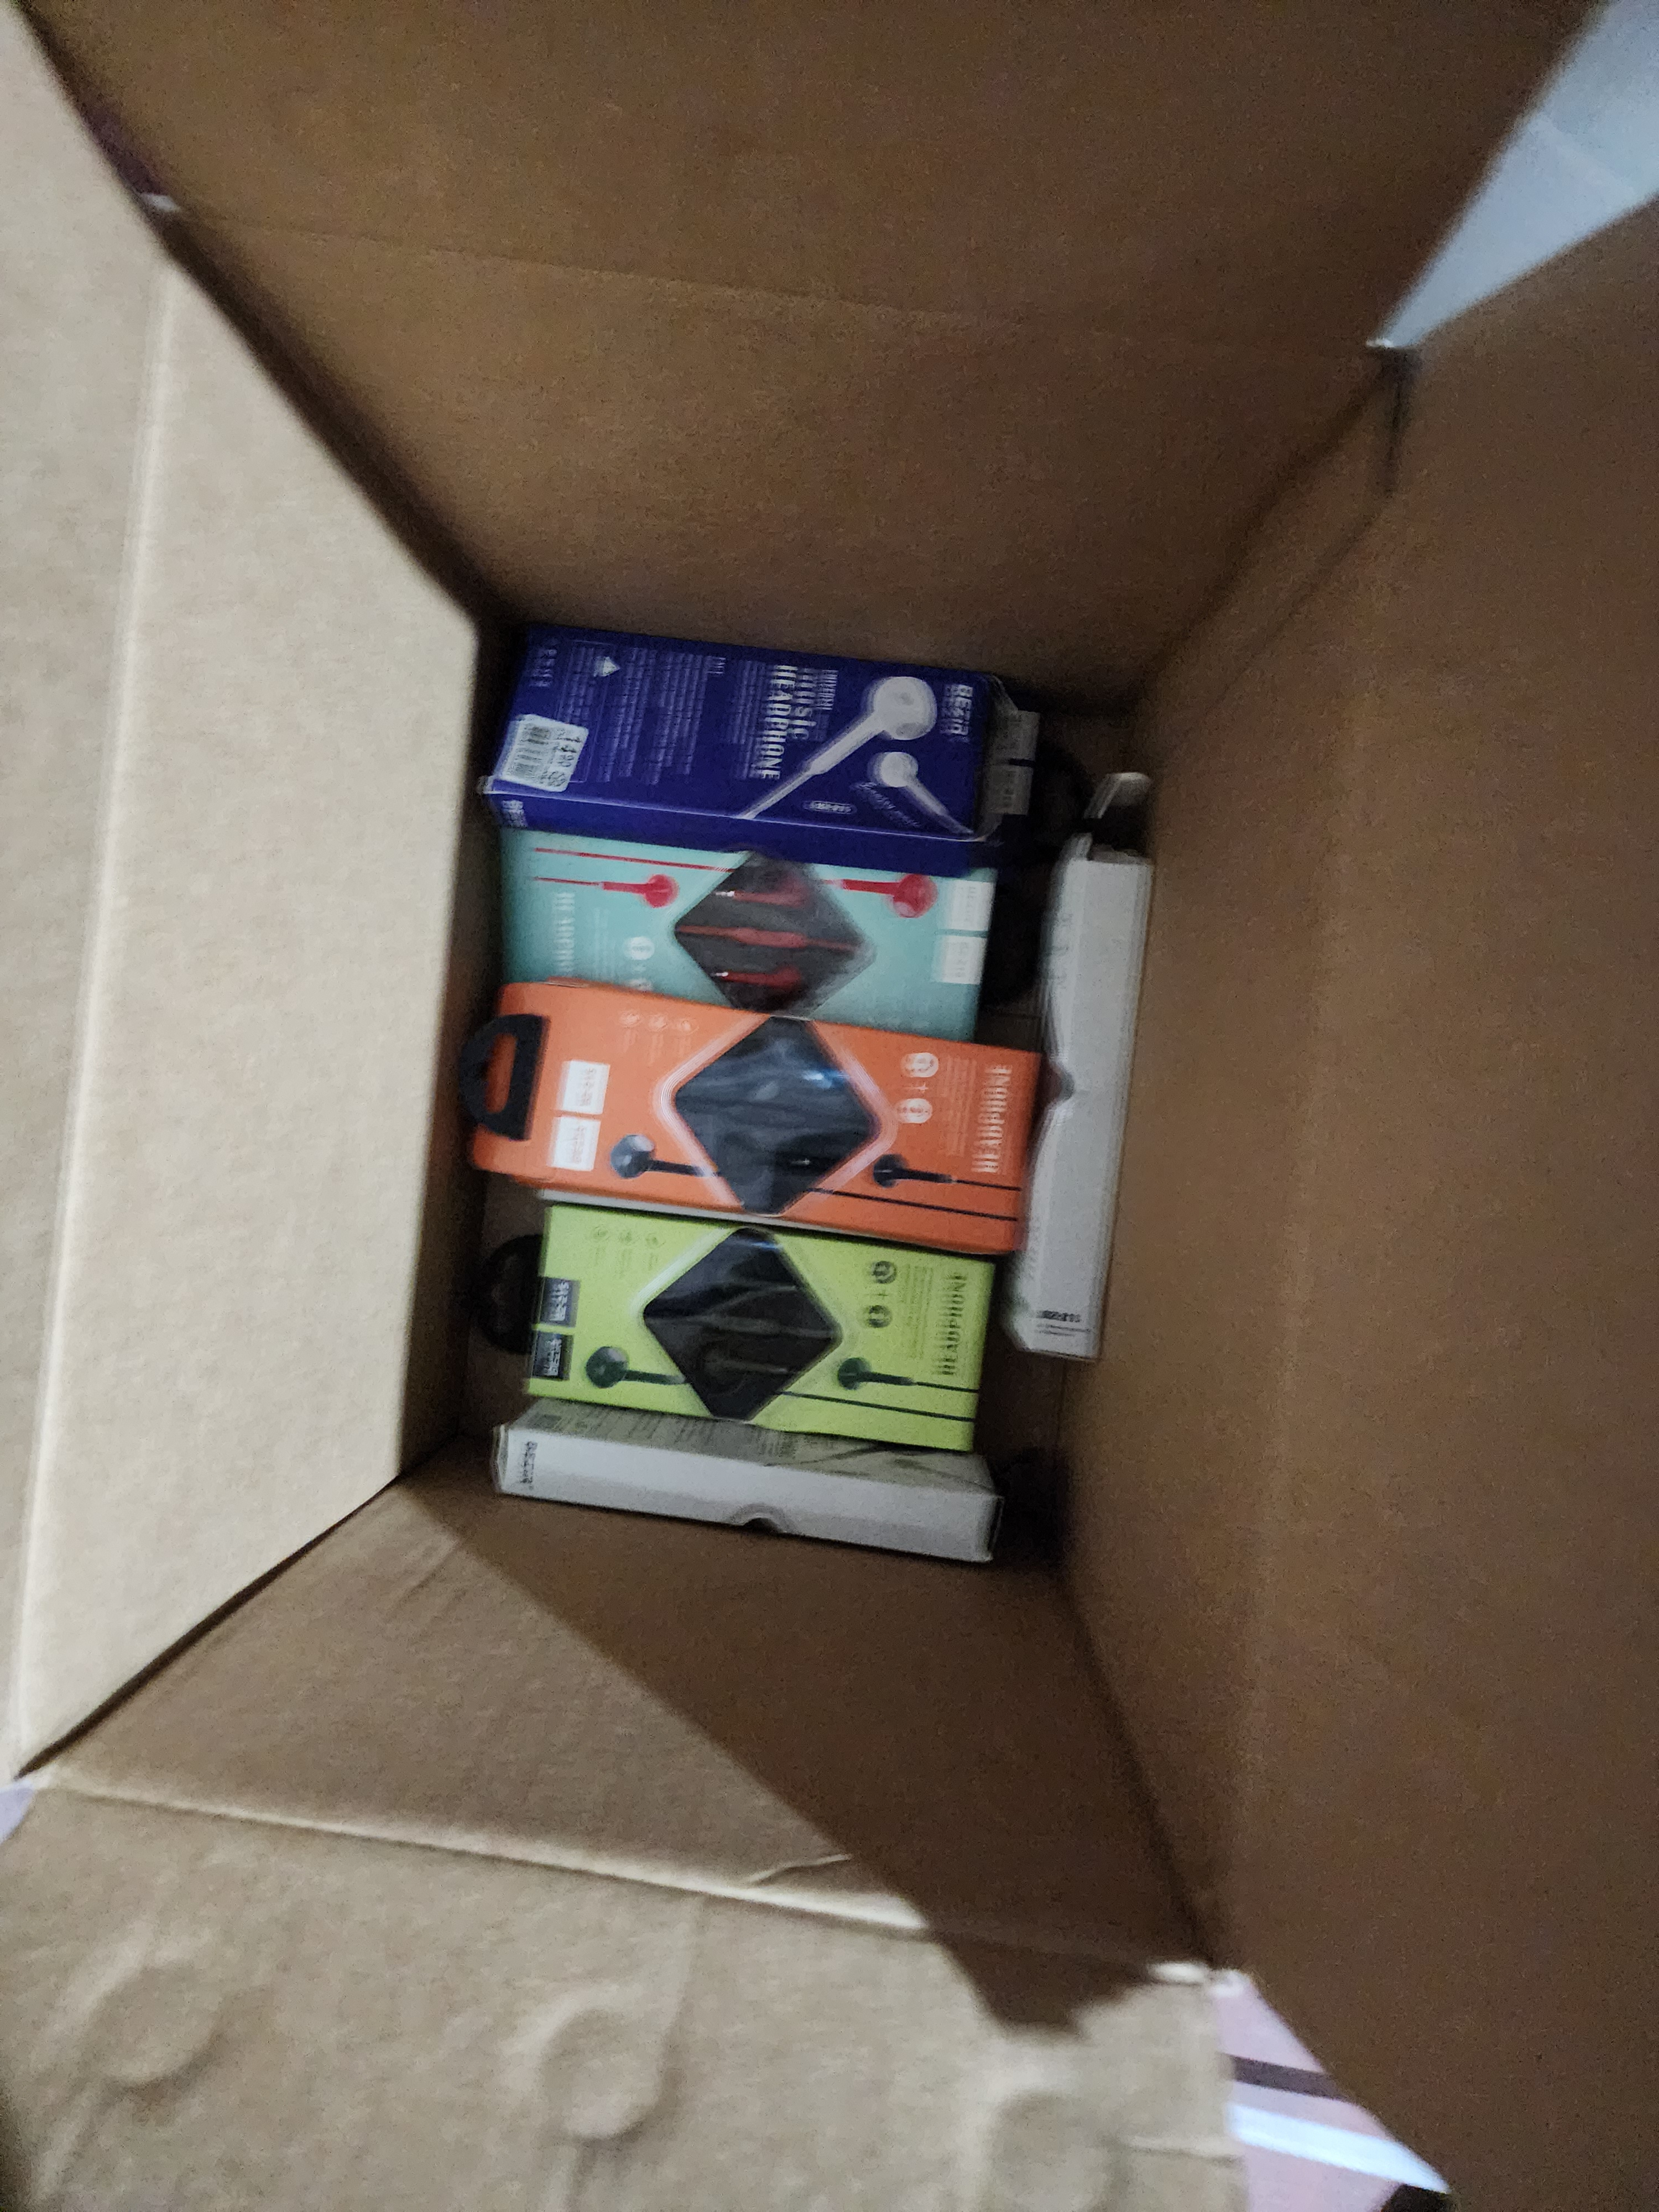other: (453, 923, 1084, 1282), (448, 578, 1019, 888), (516, 1158, 1032, 1447), (479, 810, 1075, 1043)
